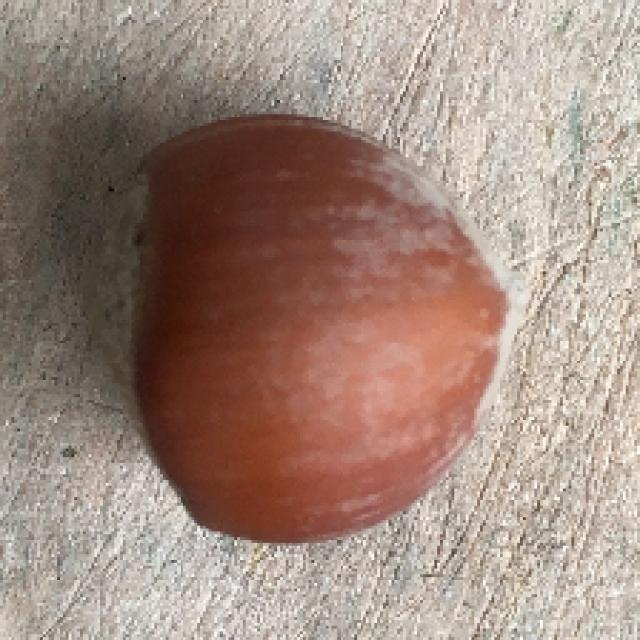qualityHazelnut: (104, 118, 509, 543)
